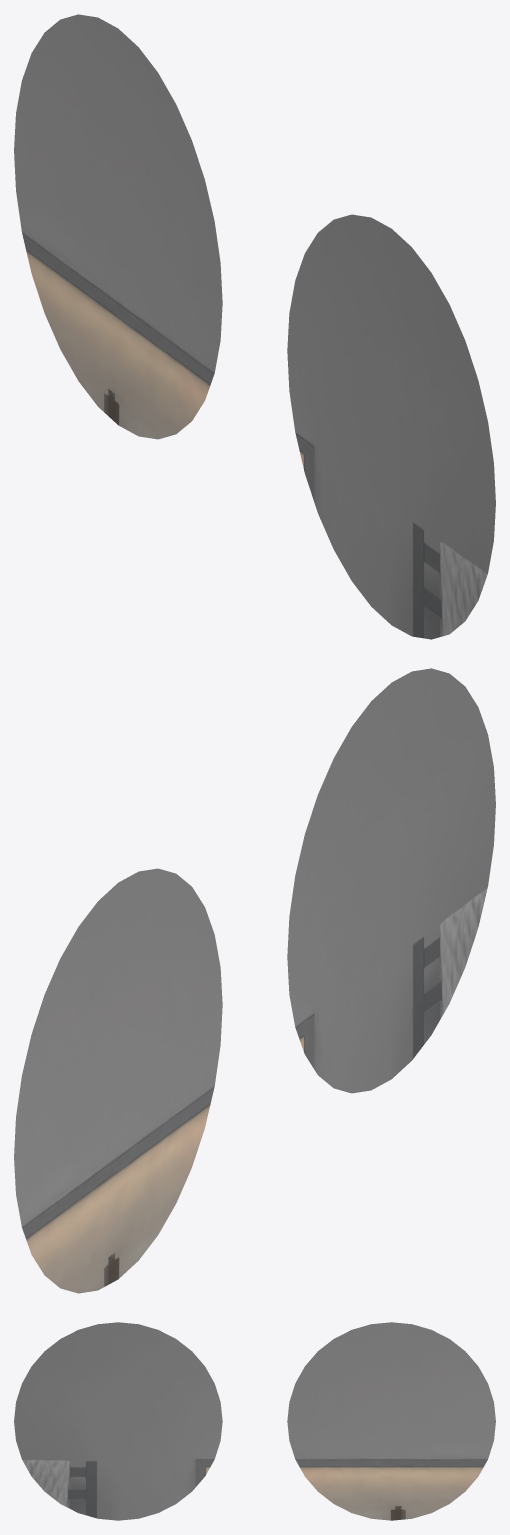
File: bathroom_contemporary_mirror.glb
3 renders of one model, top to bottom at view 1: azimuth 30°, elevation 25°; view 2: azimuth 150°, elevation 25°; view 3: azimuth 270°, elevation 25°, orthographic. The views are drawn at different scales.
Visible parts, largest first — view 1: Mirror; view 2: Mirror; view 3: Mirror.
Boxes of the visible parts, x1,y1,x2,y2 form: Mirror: (14,14,495,639); Mirror: (14,668,495,1293); Mirror: (14,1322,495,1520).
Bounding box in the file's own units: 0 × 2.21 × 4.86.
Materials: 1 (1 with a texture image).
